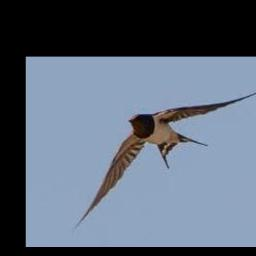Swallow: (72, 91, 256, 231)
